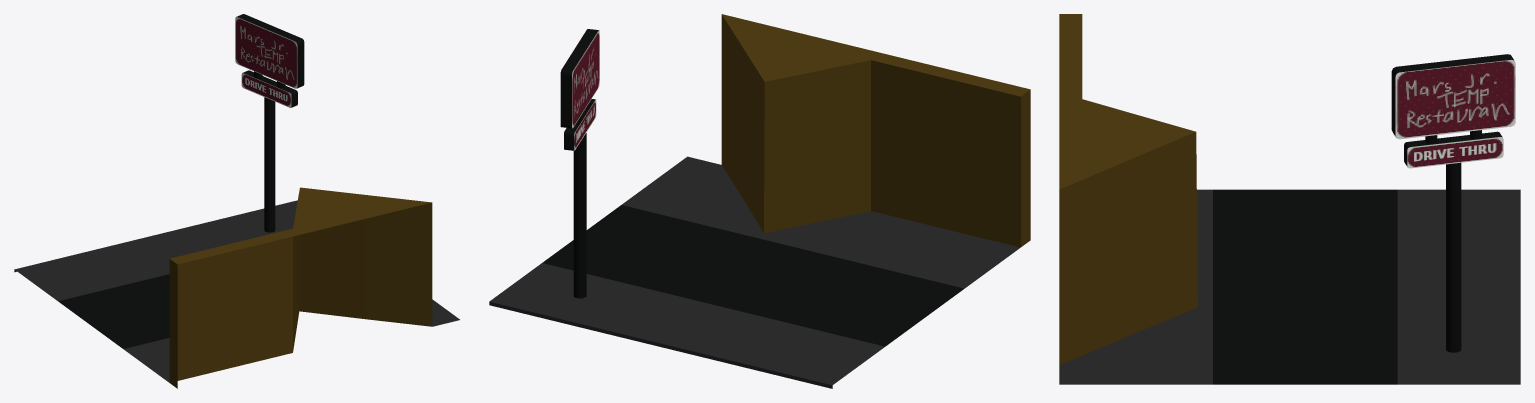
Rendered from 0A_carls_n.obj.
3 renders of one model, left to right at view 1: azimuth 30°, elevation 25°; view 2: azimuth 150°, elevation 25°; view 3: azimuth 270°, elevation 25°, orthographic. The views are drawn at different scales.
Visible parts, largest first — view 1: 0A_carls_n_Plane.015; view 2: 0A_carls_n_Plane.015; view 3: 0A_carls_n_Plane.015.
Part boxes in pixels (x1=…): 0A_carls_n_Plane.015: x1=14, y1=14, x2=459, y2=388; 0A_carls_n_Plane.015: x1=489, y1=14, x2=1030, y2=388; 0A_carls_n_Plane.015: x1=1059, y1=14, x2=1520, y2=384.
Bounding box in the file's own units: 1.6 × 1.11 × 1.6.
